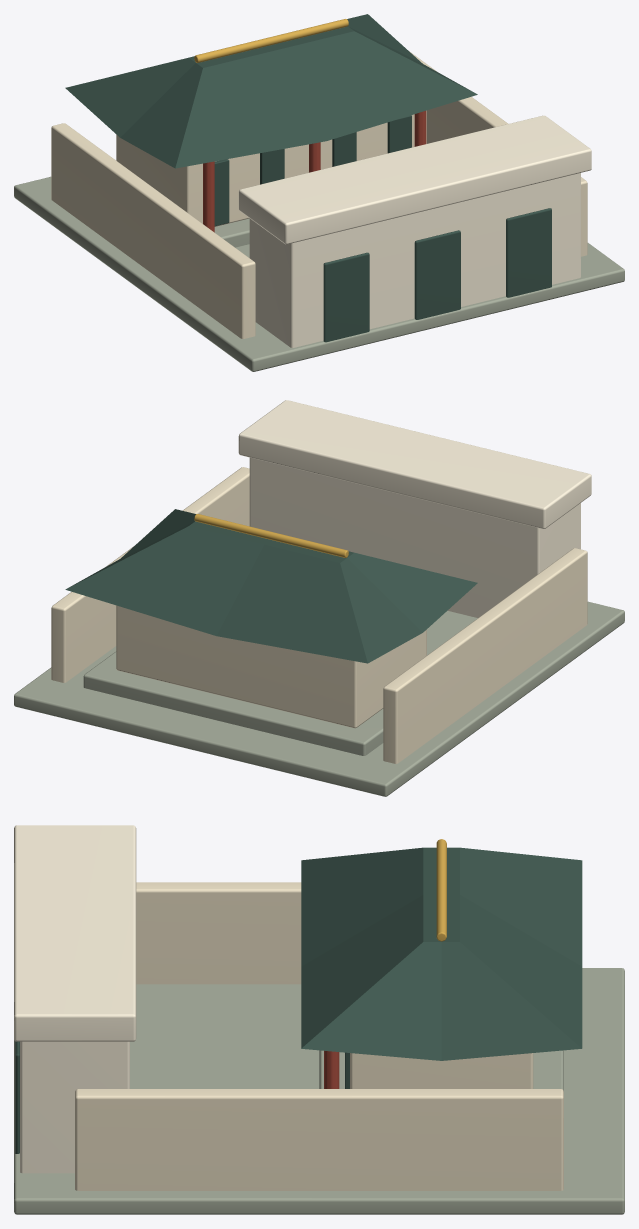
The model's file is presidential-original.glb.
The picture shows the model from 3 angles, top to bottom: view 1: azimuth 30°, elevation 25°; view 2: azimuth 150°, elevation 25°; view 3: azimuth 270°, elevation 25°; orthographic projection. The views are drawn at different scales.
Visible parts, largest first — view 1: reception hall roof, entrance, entrance parapet, compound wall, compound, reception hall body, portal, portal.001, portal.002, compound wall.001, reception hall roof ridge, reception hall door (+5 smaller); view 2: reception hall roof, entrance, entrance parapet, compound, reception hall body, compound wall, reception hall plinth, compound wall.001, reception hall roof ridge; view 3: reception hall roof, compound wall.001, compound, entrance parapet, compound wall, entrance, reception hall body, reception hall plinth, reception hall roof ridge, reception hall pillar.002, portal.002.
Boxes of the visible parts, left/top/right/bottom form: reception hall roof: left=65, top=14, right=477, bottom=168; entrance: left=249, top=173, right=580, bottom=347; entrance parapet: left=238, top=115, right=591, bottom=244; compound wall: left=51, top=123, right=255, bottom=338; compound: left=14, top=176, right=624, bottom=371; reception hall body: left=116, top=110, right=426, bottom=226; portal: left=323, top=252, right=369, bottom=342; portal.001: left=414, top=230, right=460, bottom=319; portal.002: left=506, top=208, right=551, bottom=297; compound wall.001: left=409, top=51, right=587, bottom=256; reception hall roof ridge: left=194, top=19, right=348, bottom=62; reception hall door: left=214, top=159, right=229, bottom=226; reception hall roof: left=65, top=509, right=477, bottom=663; entrance: left=249, top=457, right=580, bottom=617; entrance parapet: left=238, top=400, right=591, bottom=528; compound: left=14, top=601, right=624, bottom=796; reception hall body: left=116, top=605, right=426, bottom=728; compound wall: left=383, top=548, right=587, bottom=763; reception hall plinth: left=83, top=651, right=383, bottom=755; compound wall.001: left=51, top=467, right=249, bottom=682; reception hall roof ridge: left=194, top=514, right=348, bottom=557; reception hall roof: left=301, top=847, right=582, bottom=1060; compound wall.001: left=75, top=1089, right=563, bottom=1190; compound: left=14, top=968, right=624, bottom=1214; entrance parapet: left=14, top=825, right=136, bottom=1041; compound wall: left=136, top=882, right=301, bottom=984; entrance: left=20, top=1041, right=129, bottom=1173; reception hall body: left=350, top=1053, right=533, bottom=1088; reception hall plinth: left=319, top=1050, right=563, bottom=1091; reception hall roof ridge: left=436, top=839, right=446, bottom=941; reception hall pillar.002: left=324, top=1051, right=339, bottom=1088; portal.002: left=15, top=1041, right=19, bottom=1153.
Bounding box in the file's own units: 9 × 3.87 × 10.
